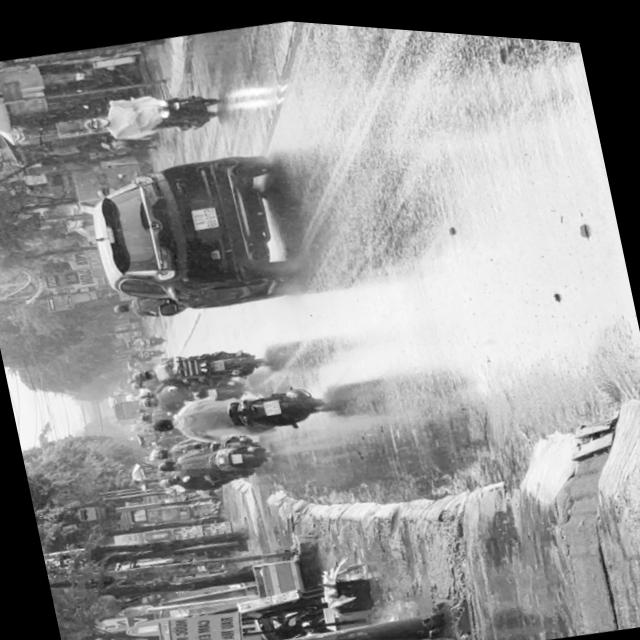helmet: (80, 112, 106, 132)
licenseplate: (140, 365, 330, 459), (75, 73, 224, 154)
motorcyclist: (146, 412, 174, 433)
nohelmet: (260, 394, 280, 412)
